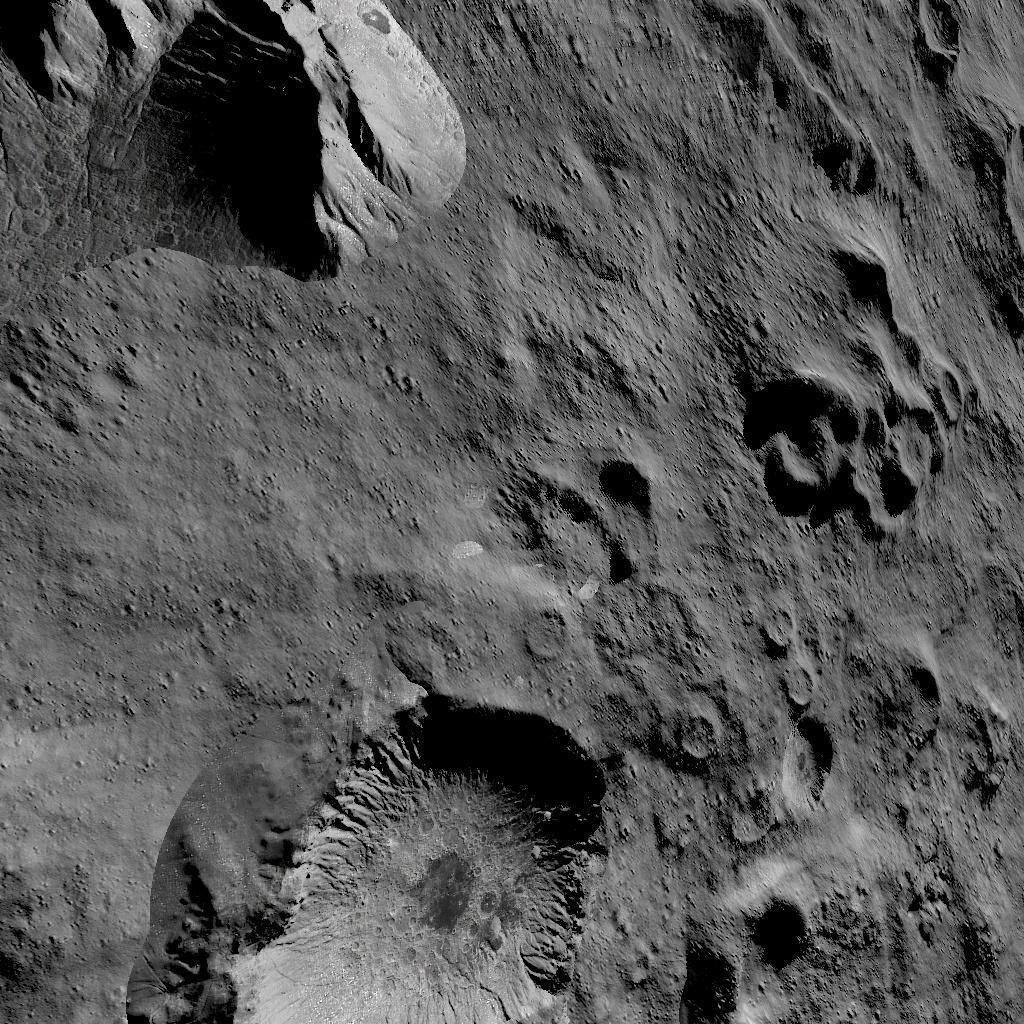Boulders: (1, 0, 471, 332)
Crater: (127, 684, 620, 1022), (731, 352, 959, 529), (677, 862, 820, 1024), (751, 604, 840, 814), (516, 456, 662, 582), (976, 106, 1024, 316), (897, 0, 975, 78), (876, 658, 942, 750), (826, 242, 900, 321), (664, 706, 725, 770), (520, 604, 580, 666)
Plan surface: (0, 340, 496, 673), (505, 2, 708, 440)
